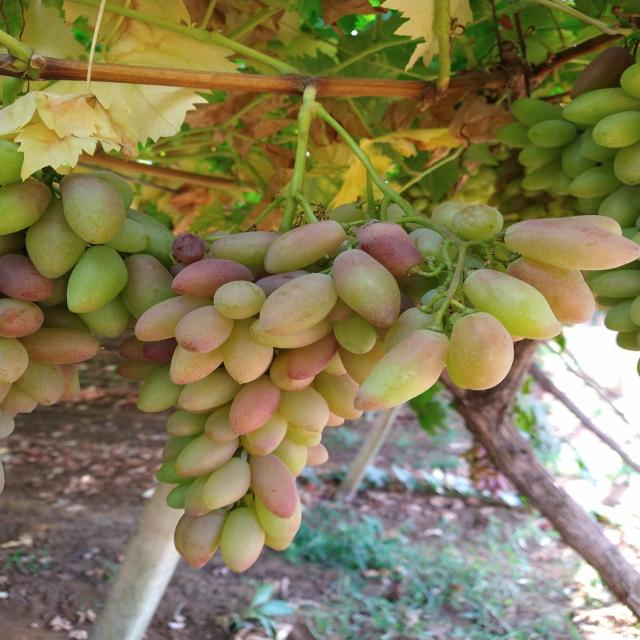grapes: (352, 328, 450, 412), (501, 217, 640, 272), (462, 268, 564, 340), (507, 257, 596, 325), (332, 249, 402, 328), (446, 312, 514, 391), (258, 272, 338, 336), (60, 172, 126, 245), (27, 195, 85, 278), (263, 220, 347, 274), (66, 244, 130, 314), (119, 255, 181, 322), (16, 322, 101, 364), (357, 222, 422, 276), (134, 298, 213, 342), (223, 317, 274, 385), (568, 45, 629, 101), (248, 454, 299, 520), (173, 431, 240, 481), (0, 175, 53, 238), (171, 258, 254, 298), (173, 511, 229, 569), (228, 374, 281, 435), (127, 207, 178, 269), (178, 366, 245, 411), (174, 305, 235, 354), (220, 506, 264, 573), (560, 87, 636, 125), (0, 249, 55, 301), (383, 307, 444, 353), (209, 230, 282, 268), (201, 456, 249, 511), (134, 363, 186, 413), (249, 318, 332, 349), (13, 356, 63, 407), (286, 332, 338, 380), (253, 492, 302, 542), (314, 372, 364, 420), (278, 386, 329, 432), (373, 290, 416, 343), (169, 344, 223, 385), (213, 280, 266, 320), (80, 295, 130, 337), (450, 204, 504, 242), (332, 312, 378, 355), (269, 349, 316, 391), (0, 294, 44, 338), (596, 185, 639, 229), (37, 301, 92, 334), (86, 171, 134, 208), (592, 111, 640, 148), (569, 168, 624, 198), (408, 227, 445, 271), (560, 139, 599, 180), (103, 218, 150, 252), (272, 434, 308, 478), (204, 402, 241, 444), (0, 334, 29, 386), (511, 96, 561, 126), (587, 269, 640, 297), (184, 471, 215, 518), (580, 128, 621, 162), (165, 408, 213, 437), (529, 120, 580, 146), (0, 137, 27, 186), (162, 432, 205, 461), (604, 298, 640, 332), (522, 162, 567, 189), (572, 214, 624, 237), (430, 200, 471, 229), (171, 232, 206, 264), (2, 380, 37, 412), (613, 143, 640, 184), (263, 522, 299, 552), (115, 360, 162, 382), (386, 203, 426, 228), (498, 121, 531, 151), (156, 461, 198, 484), (520, 142, 558, 167), (58, 363, 82, 402), (326, 203, 366, 225), (142, 338, 178, 362), (117, 336, 150, 362), (165, 483, 195, 510), (179, 400, 236, 414), (620, 59, 640, 98), (326, 296, 354, 323), (287, 429, 322, 447), (288, 420, 322, 438), (323, 351, 347, 376), (303, 443, 329, 465), (580, 189, 607, 210), (0, 407, 16, 440), (615, 330, 640, 351), (0, 399, 18, 417), (326, 411, 344, 427), (0, 382, 12, 406), (0, 461, 7, 493)
